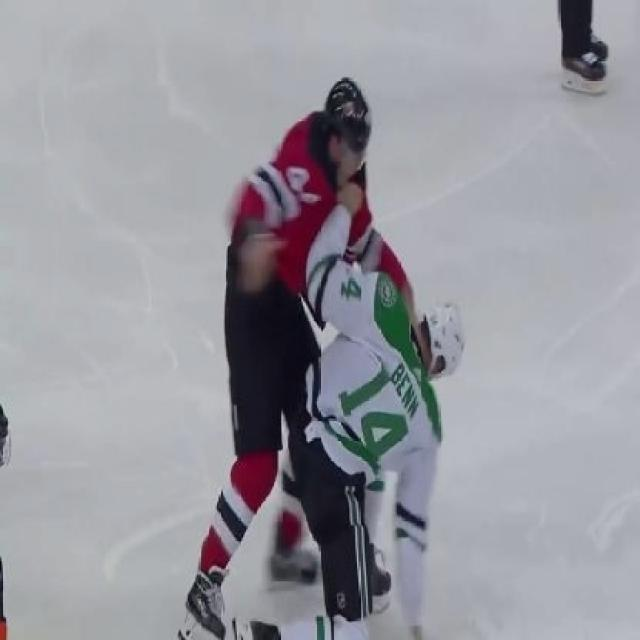fight: (183, 76, 468, 639)
